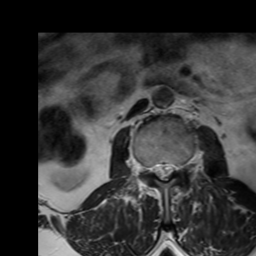CCS_normal: (160, 155, 168, 187)
LFS_stenosis: (176, 155, 185, 177)
LLS_normal: (168, 156, 176, 181)
RFS_stenosis: (143, 156, 151, 180)
RLS_normal: (151, 155, 160, 181)
